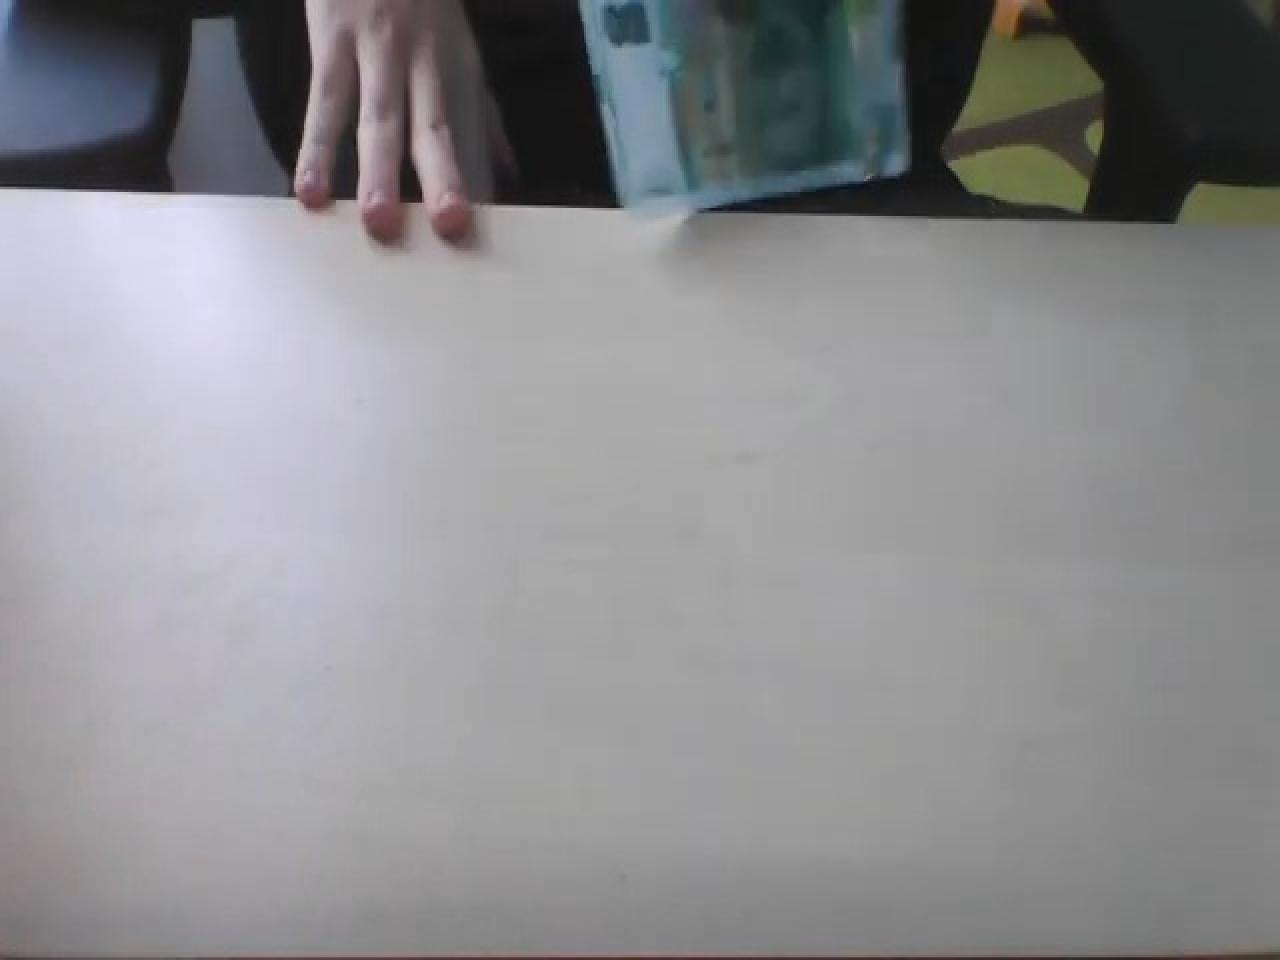100leva: (2, 178, 1276, 952), (577, 0, 914, 211)
